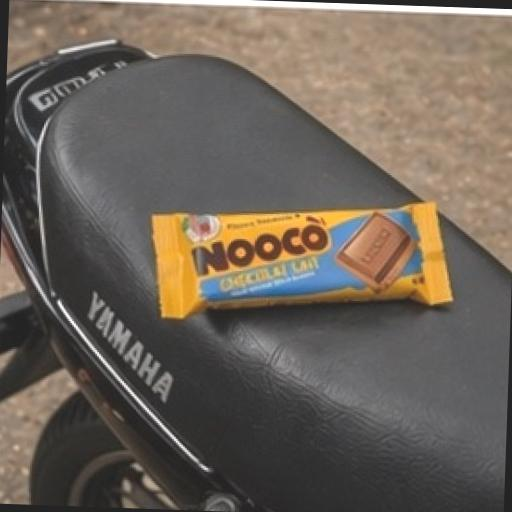nooco: (134, 182, 482, 344)
